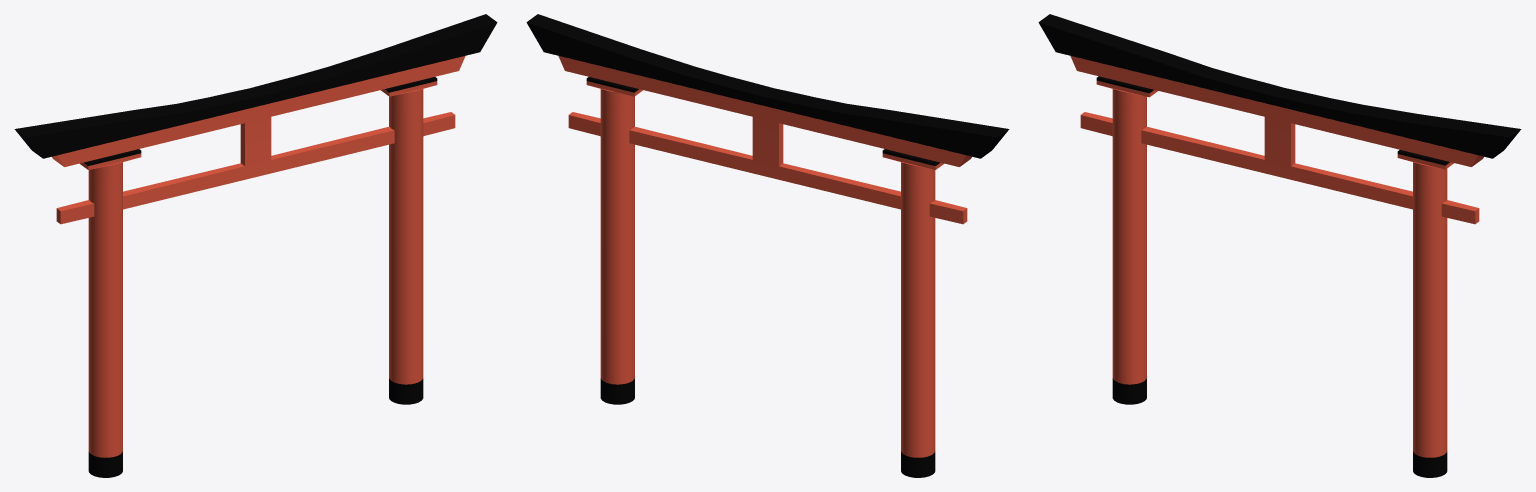
Rendered from temple gate.fbx.
The picture shows the model from 3 angles, left to right: view 1: azimuth 30°, elevation 25°; view 2: azimuth 150°, elevation 25°; view 3: azimuth 330°, elevation 25°; orthographic projection.
Parts seen in each view (by area): view 1: polySurface2; view 2: polySurface2; view 3: polySurface2.
Part boxes in pixels (left/top/right/bottom): polySurface2: left=14, top=14, right=497, bottom=477; polySurface2: left=526, top=14, right=1009, bottom=477; polySurface2: left=1038, top=14, right=1521, bottom=477.
Size of the model in its own units: 40.8 by 29.62 by 2.59.
